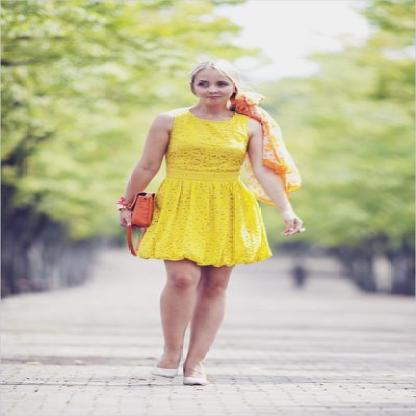bag: (121, 201, 160, 238)
dress: (138, 111, 272, 266)
shoe: (157, 361, 204, 386)
